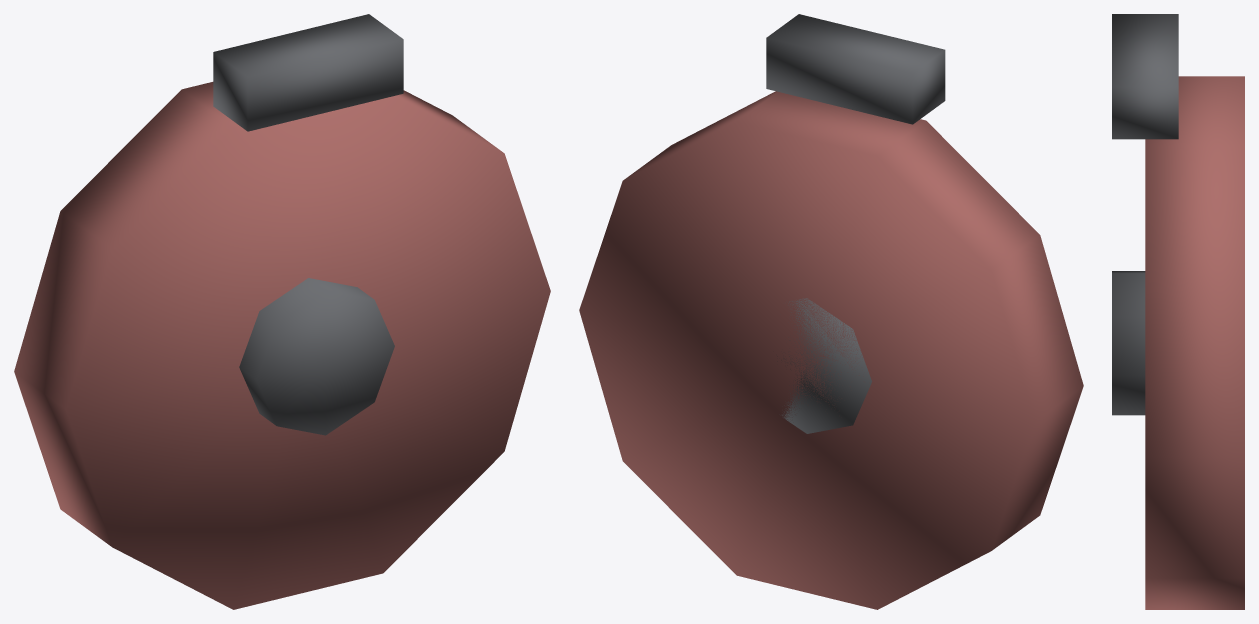
Rendered from hose_reel_03.glb.
The picture shows the model from 3 angles, left to right: view 1: azimuth 30°, elevation 25°; view 2: azimuth 150°, elevation 25°; view 3: azimuth 270°, elevation 25°; orthographic projection. The views are drawn at different scales.
Parts seen in each view (by area): view 1: world; view 2: world; view 3: world.
Boxes of the visible parts, box(x1,y1,x2,y2) form: world: box(14, 14, 550, 609); world: box(579, 14, 1083, 609); world: box(1112, 14, 1244, 609).
Size of the model in its own units: 0.5824 by 0.6267 by 0.144.
